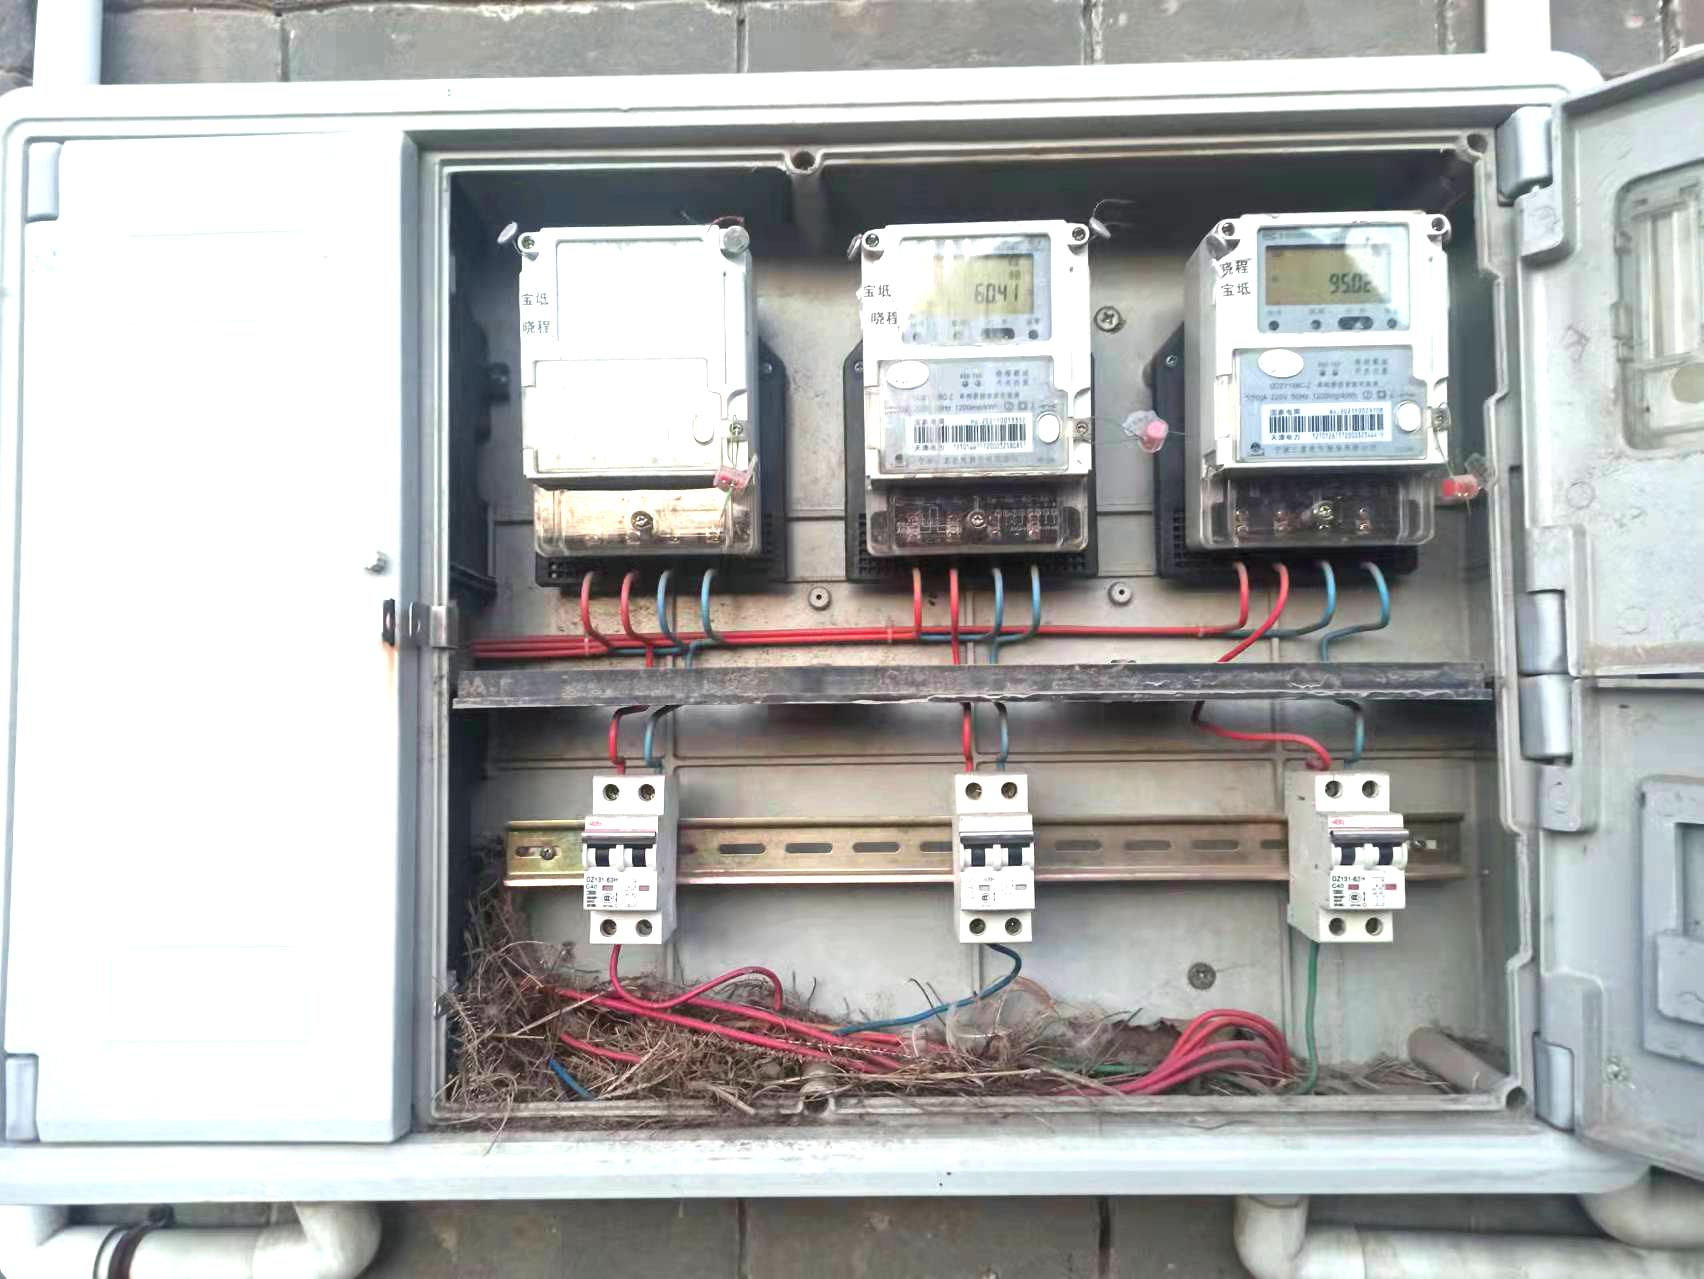digital: (1218, 207, 1450, 465), (863, 219, 1094, 476), (520, 223, 748, 481)
